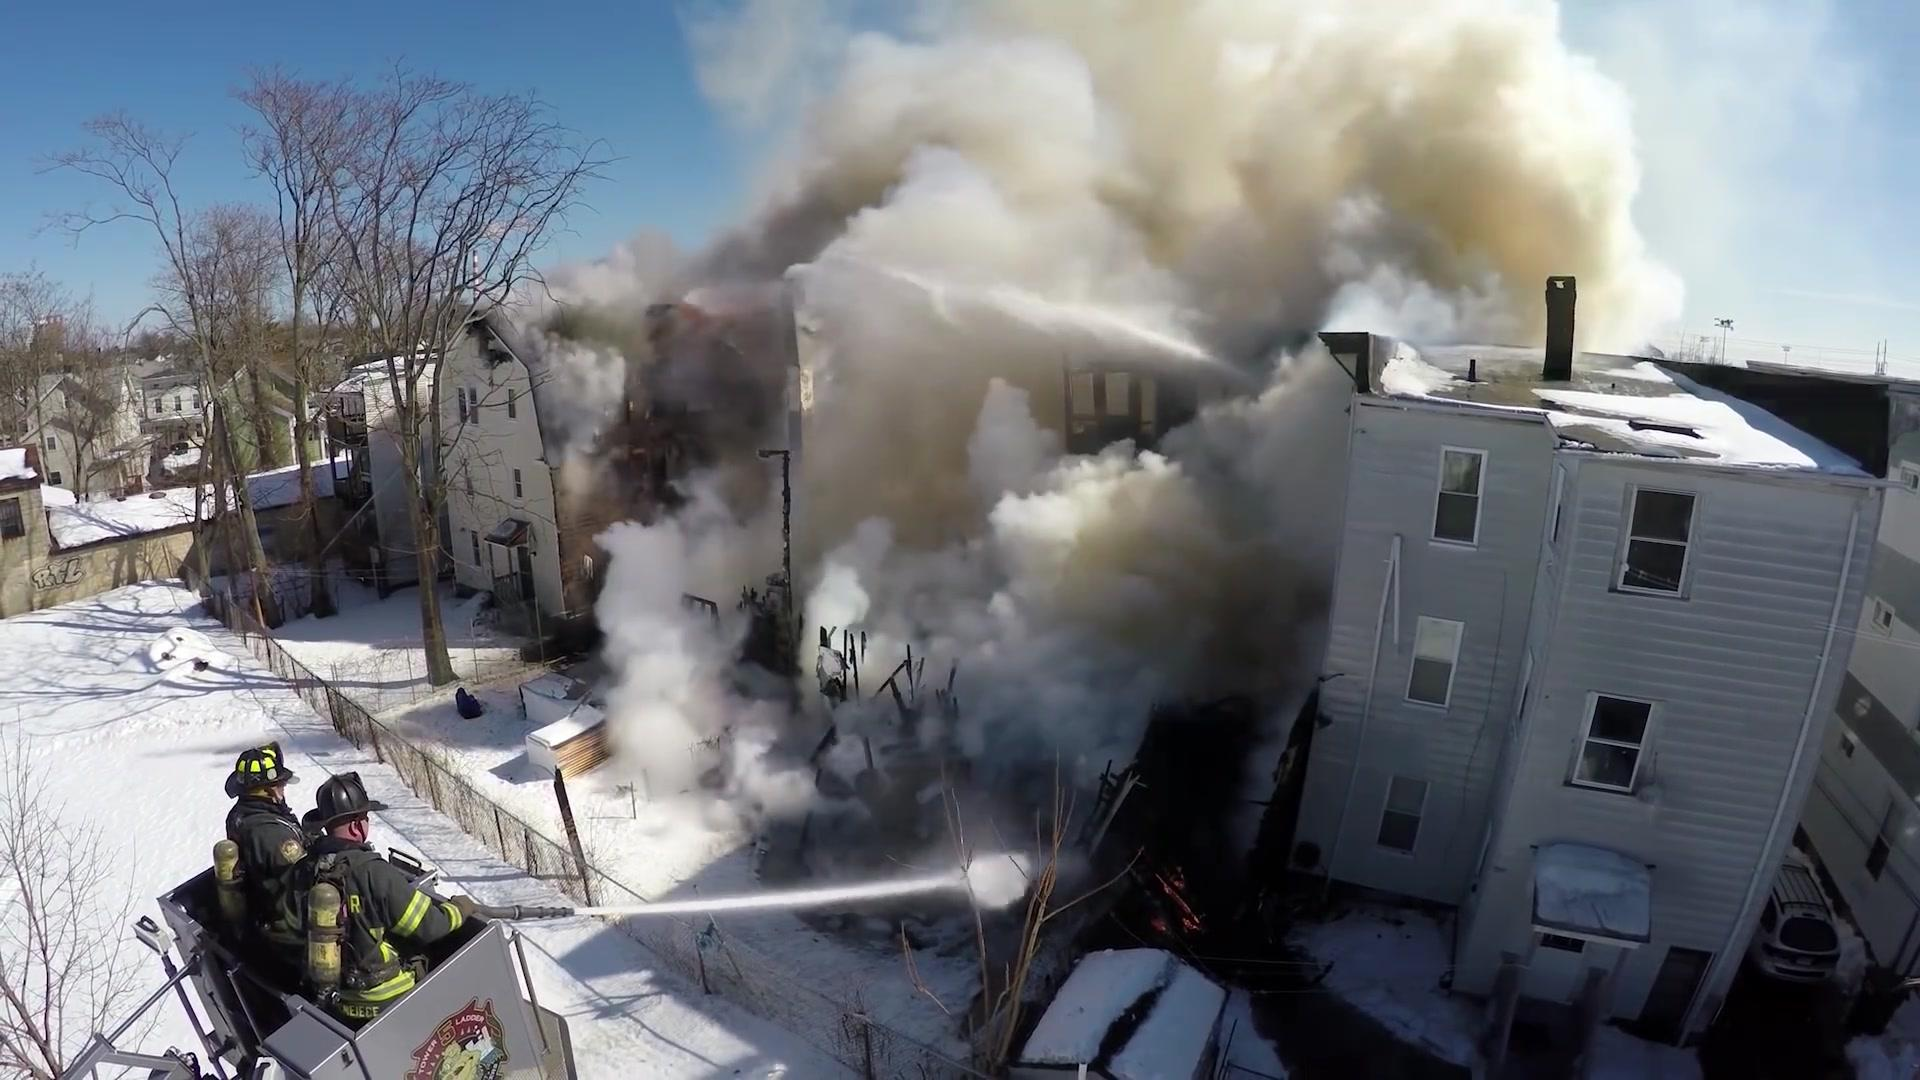smoke: (855, 37, 1577, 385), (1005, 425, 1315, 695)
